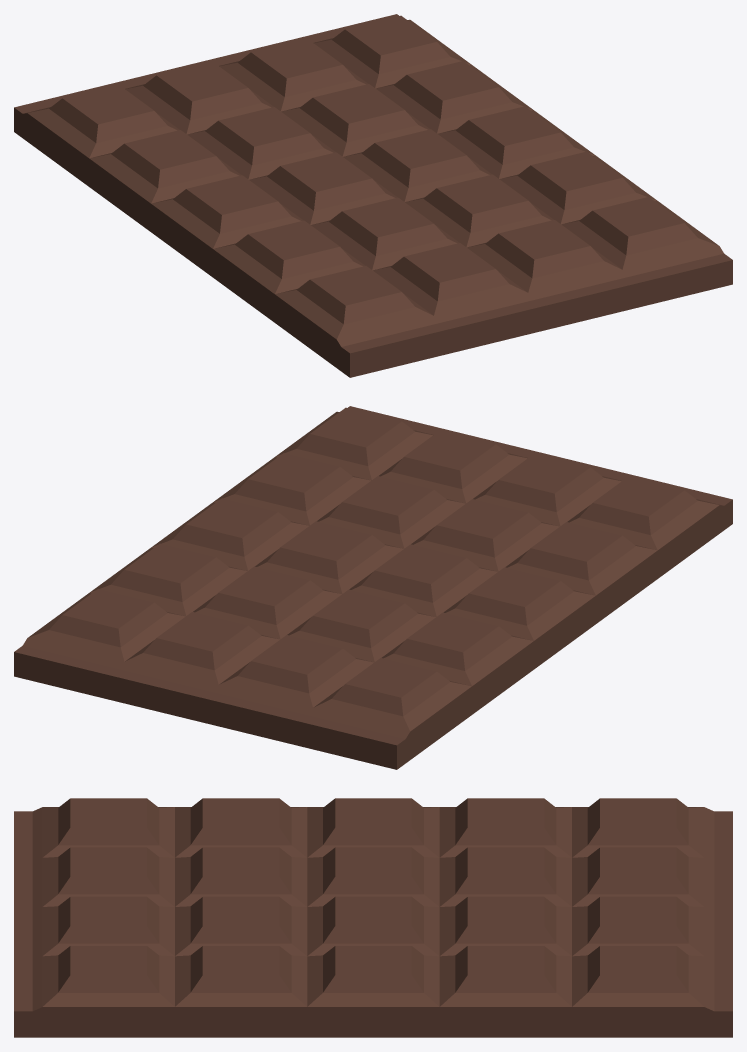
File: ChocolateBar.obj
3 views of the same model, one above another, from view 1: azimuth 30°, elevation 25°; view 2: azimuth 150°, elevation 25°; view 3: azimuth 270°, elevation 25° (orthographic). The views are drawn at different scales.
Parts seen in each view (by area): view 1: mesh_0; view 2: mesh_0; view 3: mesh_0.
Boxes of the visible parts, x1,y1,x2,y2 form: mesh_0: (14,14,732,377); mesh_0: (14,406,732,769); mesh_0: (14,798,732,1037).
Size of the model in its own units: 0.5752 by 0.0683 by 0.8742.
